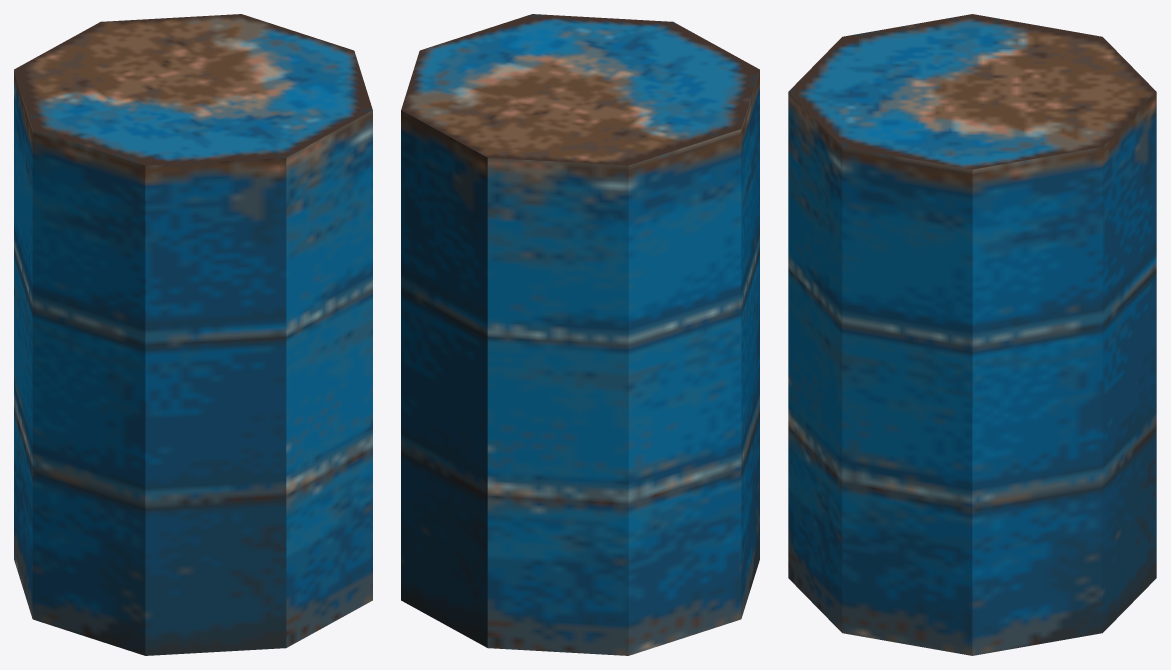
Rendered from barrel.fbx.
The picture shows the model from 3 angles, left to right: view 1: azimuth 30°, elevation 25°; view 2: azimuth 150°, elevation 25°; view 3: azimuth 270°, elevation 25°; orthographic projection.
Visible parts, largest first — view 1: Barrel; view 2: Barrel; view 3: Barrel.
Boxes of the visible parts, <box> form: Barrel: <box>14,14,372,655</box>; Barrel: <box>401,14,759,655</box>; Barrel: <box>788,14,1156,655</box>.
Bounding box in the file's own units: 58.42 × 85.09 × 58.42.
